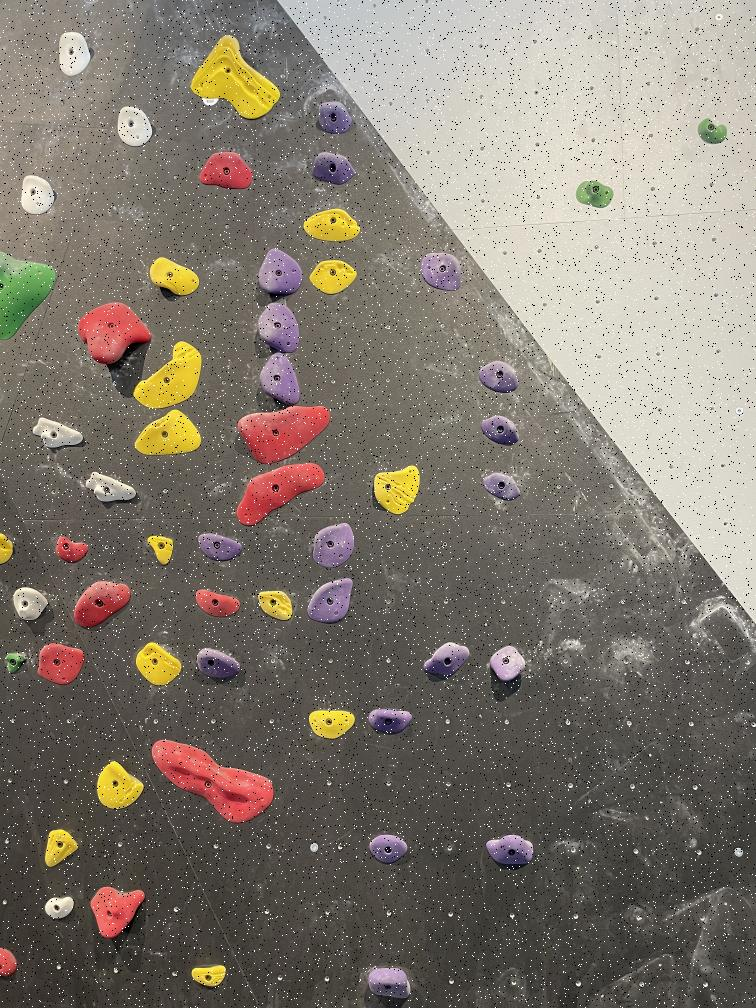Crimp: (190, 32, 283, 124), (133, 408, 206, 456), (308, 258, 357, 298), (188, 588, 246, 619), (305, 210, 364, 239), (43, 826, 77, 868), (310, 711, 356, 741), (194, 532, 242, 559), (257, 589, 297, 620), (189, 964, 229, 985)
Edges: (132, 341, 205, 407), (236, 463, 322, 519), (84, 465, 138, 506), (29, 415, 86, 451)
Foothold: (574, 178, 614, 210), (51, 533, 89, 563), (148, 536, 175, 565), (44, 895, 76, 919), (700, 119, 726, 145)
Jug: (231, 410, 336, 460), (80, 307, 147, 361), (368, 463, 421, 516), (92, 885, 144, 938), (95, 760, 147, 812), (254, 301, 307, 351), (303, 524, 362, 566), (303, 575, 355, 622), (132, 640, 184, 687), (71, 581, 129, 623), (36, 643, 90, 684), (416, 247, 463, 294), (483, 830, 536, 870), (144, 258, 201, 295), (260, 353, 302, 403), (198, 151, 254, 188), (255, 251, 303, 293), (13, 176, 63, 216), (424, 642, 478, 678), (114, 106, 157, 151), (366, 967, 418, 1003), (316, 98, 362, 138), (54, 33, 95, 76), (196, 648, 241, 684), (309, 150, 358, 183), (480, 359, 520, 397), (478, 415, 525, 447), (369, 831, 408, 868), (366, 704, 419, 730), (482, 471, 526, 501), (490, 649, 530, 681), (14, 584, 48, 618)
Sloper: (150, 736, 277, 825)
